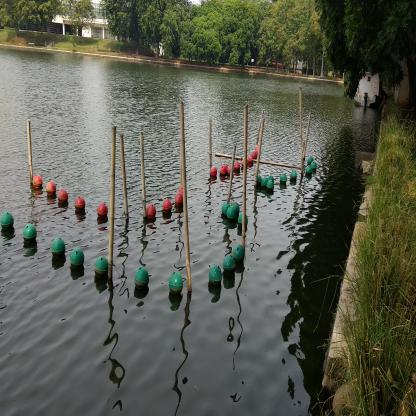green_buoy: (134, 266, 151, 298), (207, 261, 223, 291), (222, 251, 237, 281), (169, 272, 184, 299), (71, 248, 86, 274), (0, 210, 16, 234), (52, 235, 66, 262), (94, 255, 108, 282), (24, 222, 38, 246), (233, 244, 245, 266), (227, 206, 238, 226), (290, 168, 299, 186), (305, 164, 313, 180), (261, 177, 268, 194), (267, 180, 275, 194), (280, 173, 287, 188), (312, 160, 318, 173)
red_buoy: (96, 200, 110, 224), (145, 200, 157, 224), (75, 193, 86, 217), (174, 191, 186, 211), (57, 187, 68, 208), (45, 181, 57, 200), (162, 196, 173, 216), (33, 173, 43, 191), (219, 163, 228, 179), (233, 160, 240, 178), (211, 168, 217, 184), (249, 156, 254, 169)
